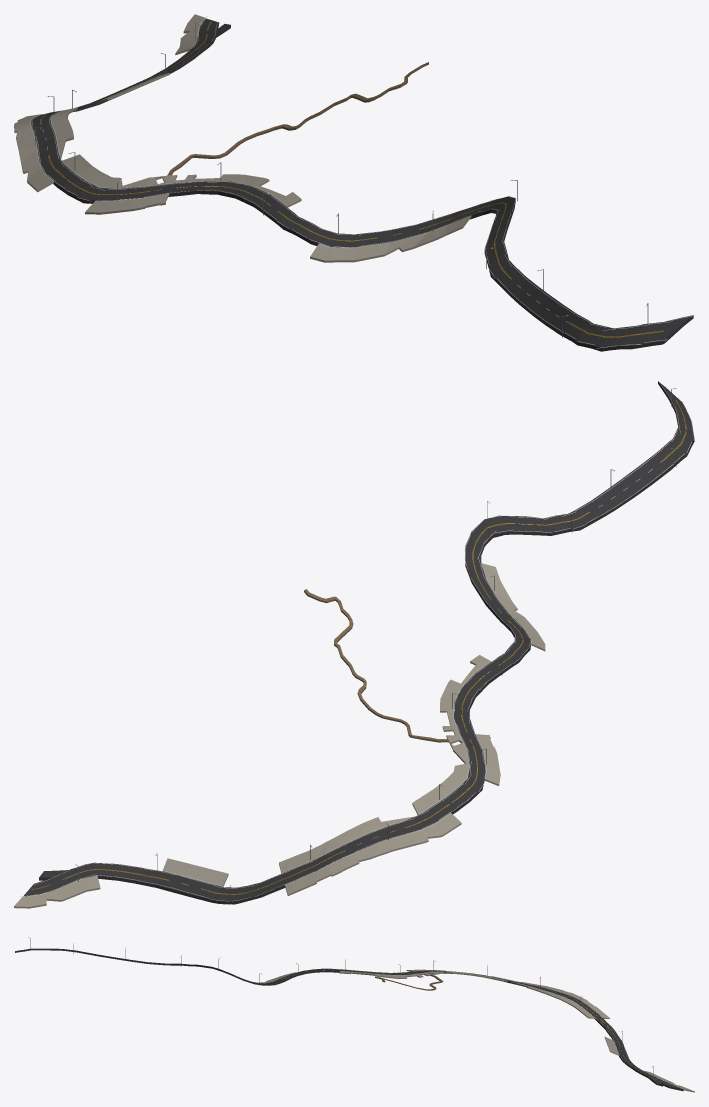
3 views of the same model, one above another, from view 1: azimuth 30°, elevation 25°; view 2: azimuth 150°, elevation 25°; view 3: azimuth 270°, elevation 25° (orthographic). The views are drawn at different scales.
Size of the model in its own units: 130 by 74.17 by 410.
